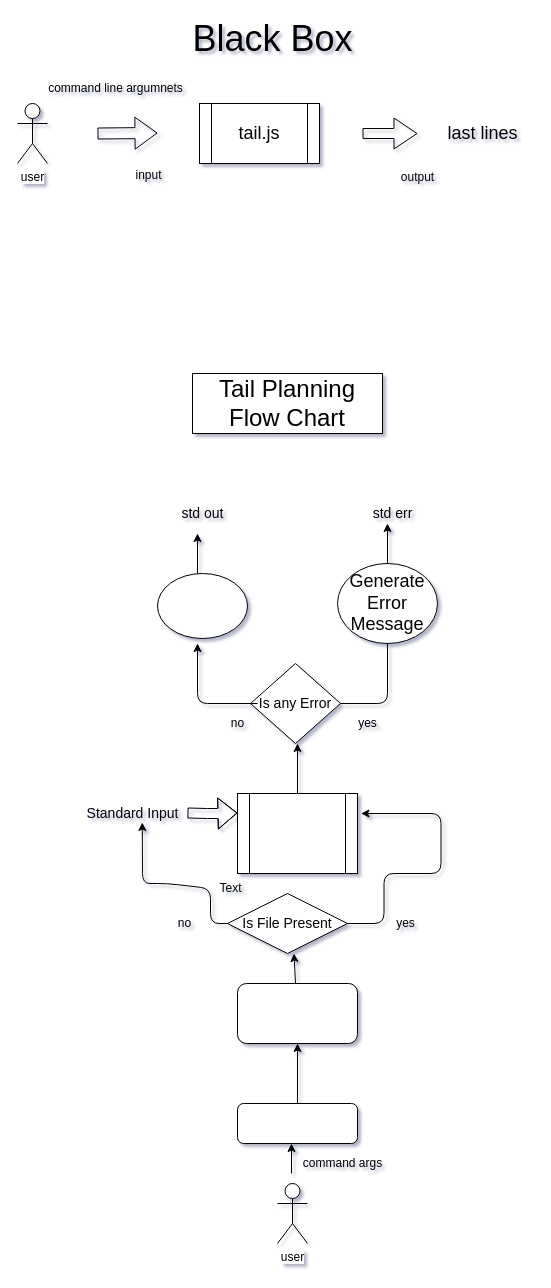
The diagram is 551 pixels wide and 1288 high, and some of its shapes have lost their labels. The shapes that lost their labels are listed below. From the top down, each one's centre as x and y in pixels, then its label:
At point (202, 605): "Get Last Lines".
At point (297, 833): "Get Array Of Text Lines".
At point (297, 1013): "Parse User Options".
At point (297, 1123): "Filter User Options".
